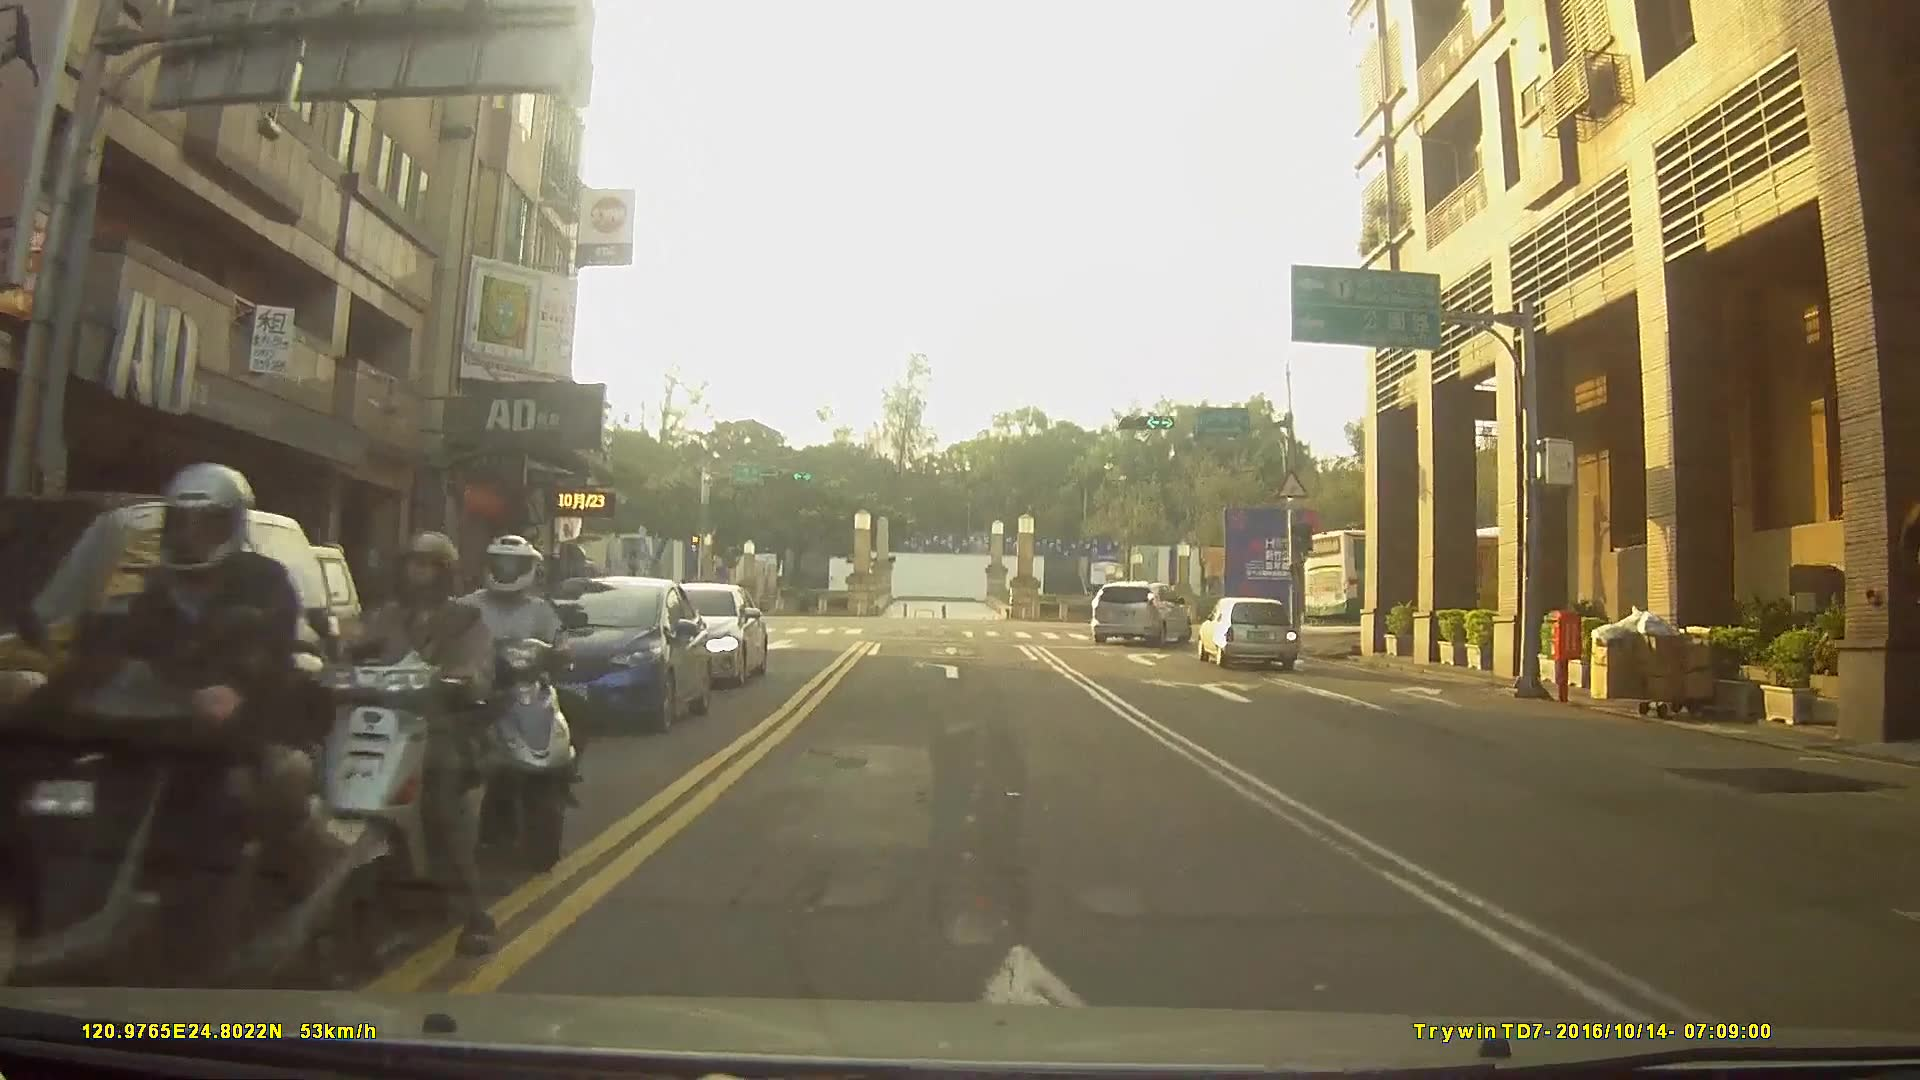rider: (22, 460, 349, 1071), (299, 529, 493, 965), (431, 530, 593, 876)
vehicle: (497, 572, 712, 732), (1304, 526, 1570, 626), (619, 577, 765, 683), (1195, 594, 1297, 669), (1092, 578, 1192, 644)
